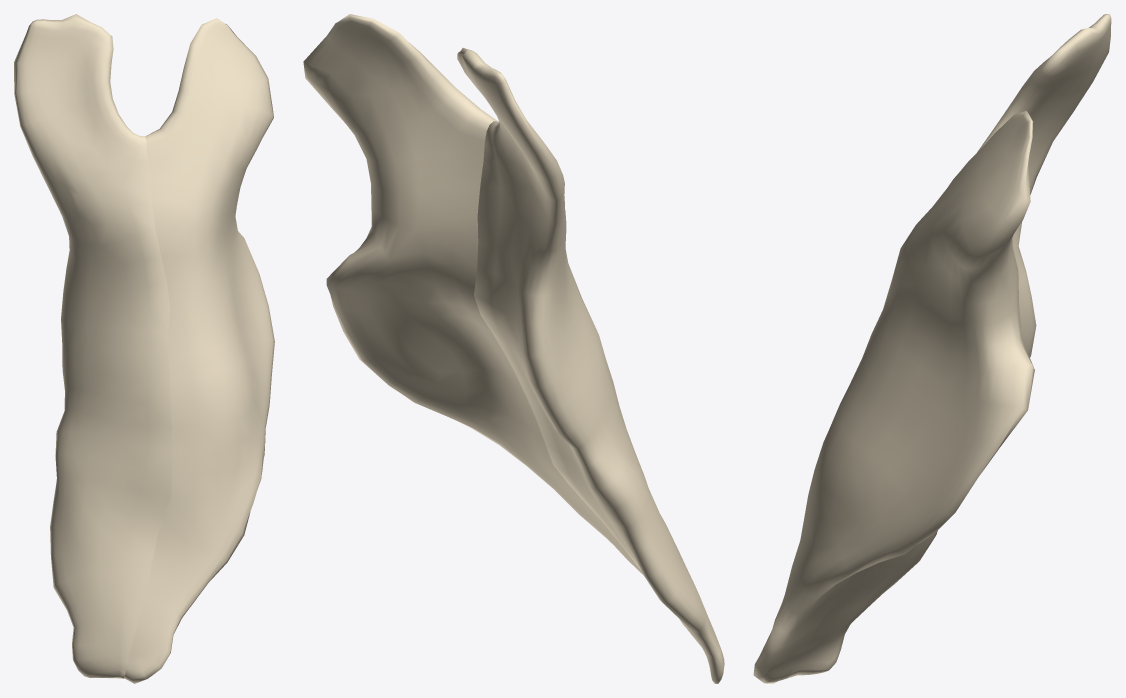
The model's file is hra-thymus-male-v1.glb.
3 renders of one model, left to right at view 1: azimuth 30°, elevation 25°; view 2: azimuth 150°, elevation 25°; view 3: azimuth 270°, elevation 25°, orthographic. The views are drawn at different scales.
Parts seen in each view (by area): view 1: VH_M_thymus_lobe_L, VH_M_thymus_lobe_R; view 2: VH_M_thymus_lobe_R, VH_M_thymus_lobe_L; view 3: VH_M_thymus_lobe_R, VH_M_thymus_lobe_L.
Part boxes in pixels (x1,y1,x2,y2): VH_M_thymus_lobe_L: (14,14,172,678); VH_M_thymus_lobe_R: (123,18,274,683); VH_M_thymus_lobe_R: (303,14,643,575); VH_M_thymus_lobe_L: (457,48,724,683); VH_M_thymus_lobe_R: (753,111,1034,683); VH_M_thymus_lobe_L: (788,14,1111,677).
Bounding box in the file's own units: 0.037 × 0.0757 × 0.0351.
